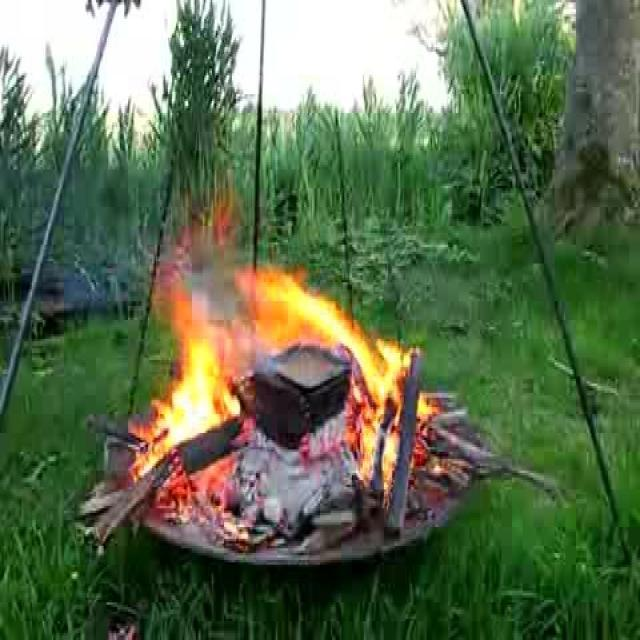Fire: (128, 142, 442, 519)
